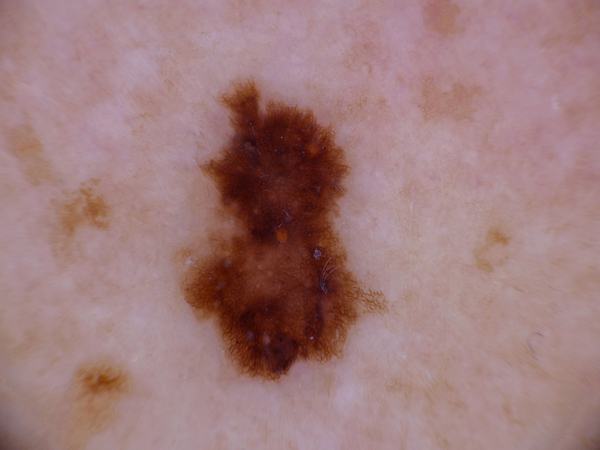Detected Lesion: (170, 77, 393, 388)
